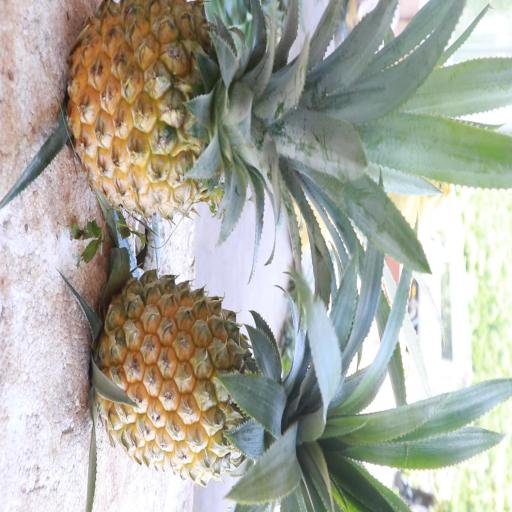Pineapple - v8 v1: (63, 0, 311, 229), (91, 267, 340, 490)
